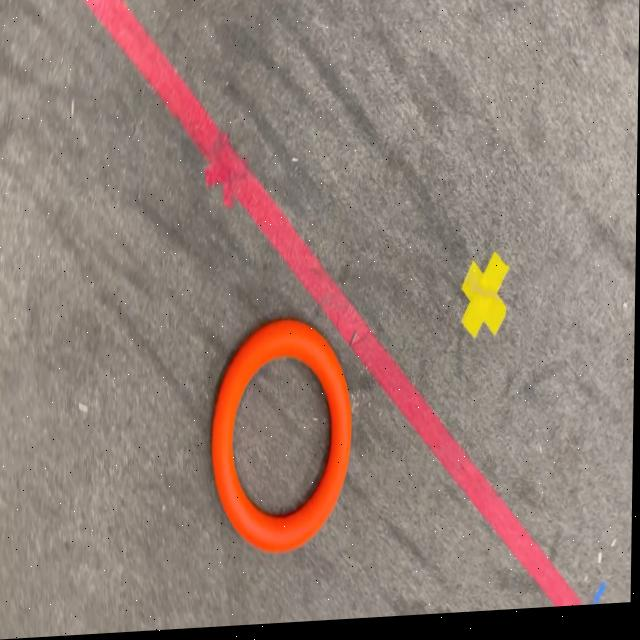note: (213, 320, 355, 561)
